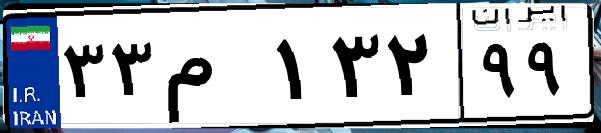1: (270, 28, 330, 110)
2: (385, 28, 445, 110)
3: (330, 28, 385, 110), (57, 26, 110, 100), (110, 28, 158, 98)
9: (475, 38, 525, 113), (525, 38, 570, 115)
م: (158, 20, 270, 120)
